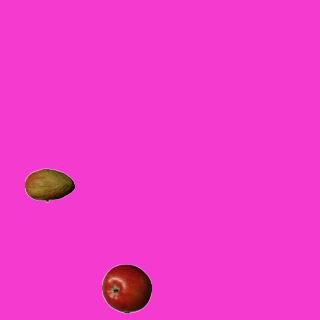Apple Braeburn: (101, 263, 151, 313)
Papaya: (24, 160, 74, 210)
